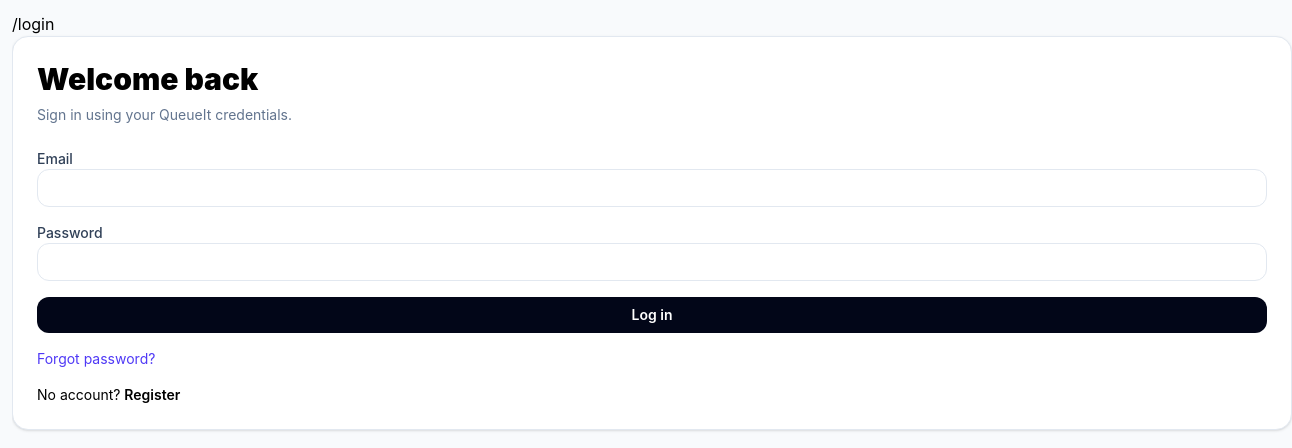
Test: authentication forms › login submits credentials, persists tokens, and navigates to dashboard
Type "user@example.com" into the field labelled "Email" at (652, 188), box [37,169,1267,207]
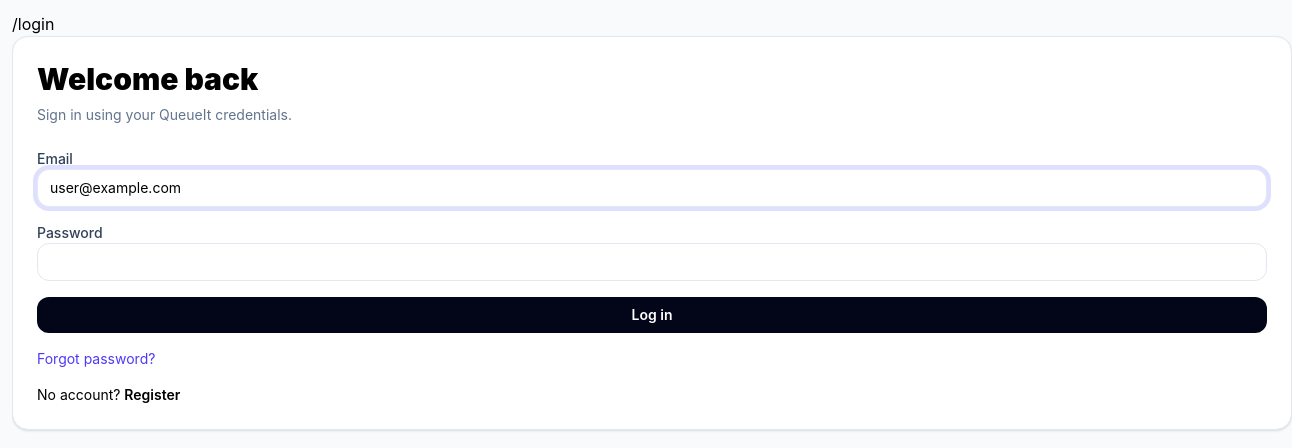
Type "StrongerPass1!" into the password field labelled "Password" at (652, 262), box [37,243,1267,281]
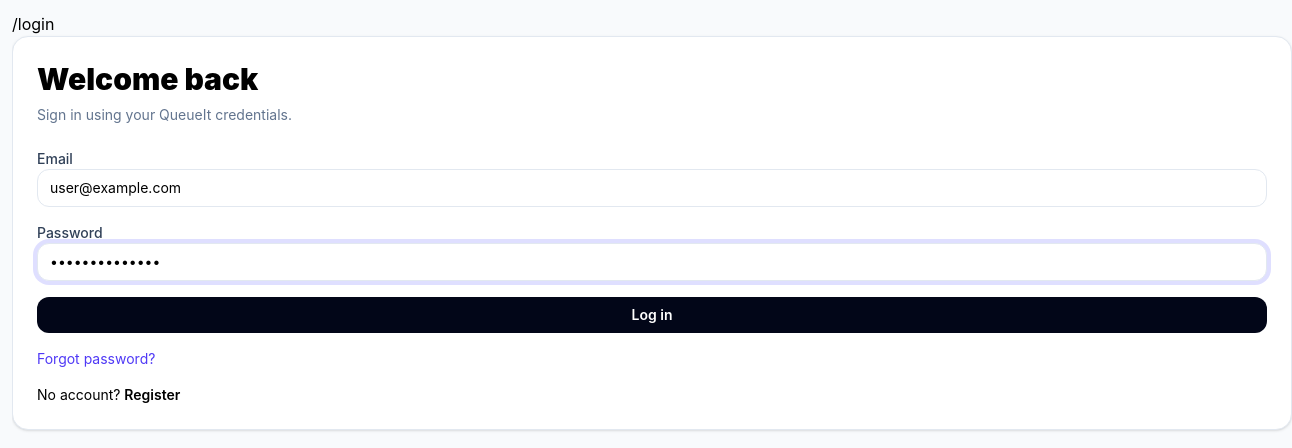
Click the button "Log in" at (652, 315), box [37,297,1267,333]
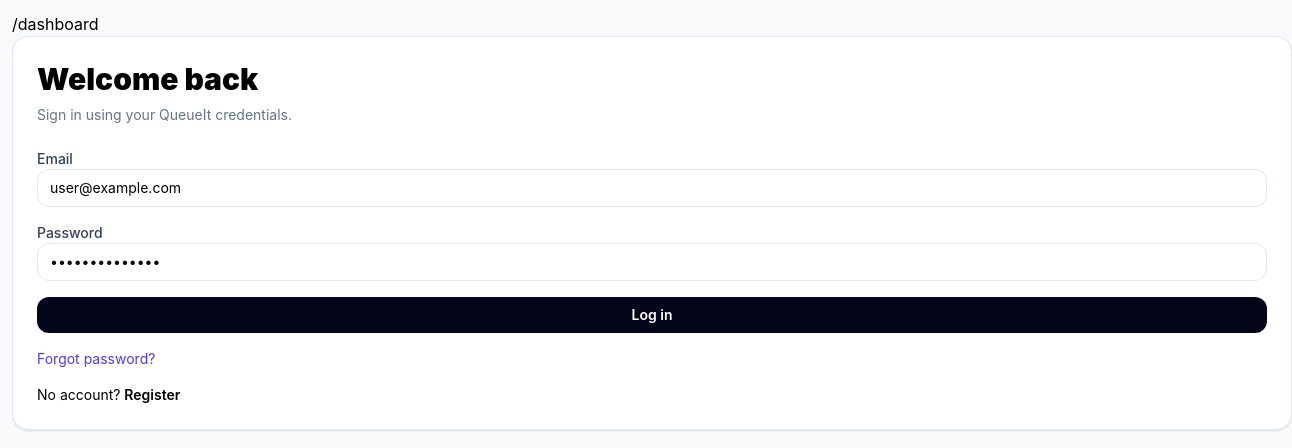
Expected: the text with test id "location" reads "/dashboard", [12,14,98,34]
